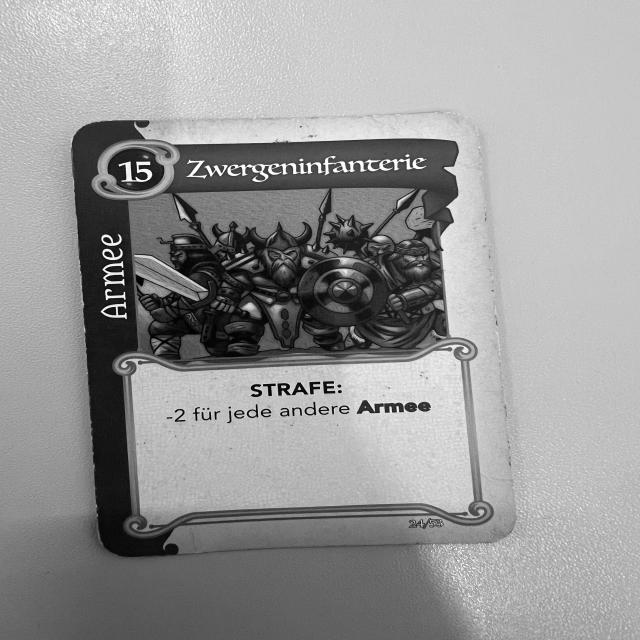Dwarvish Infantry: (66, 109, 522, 560)
